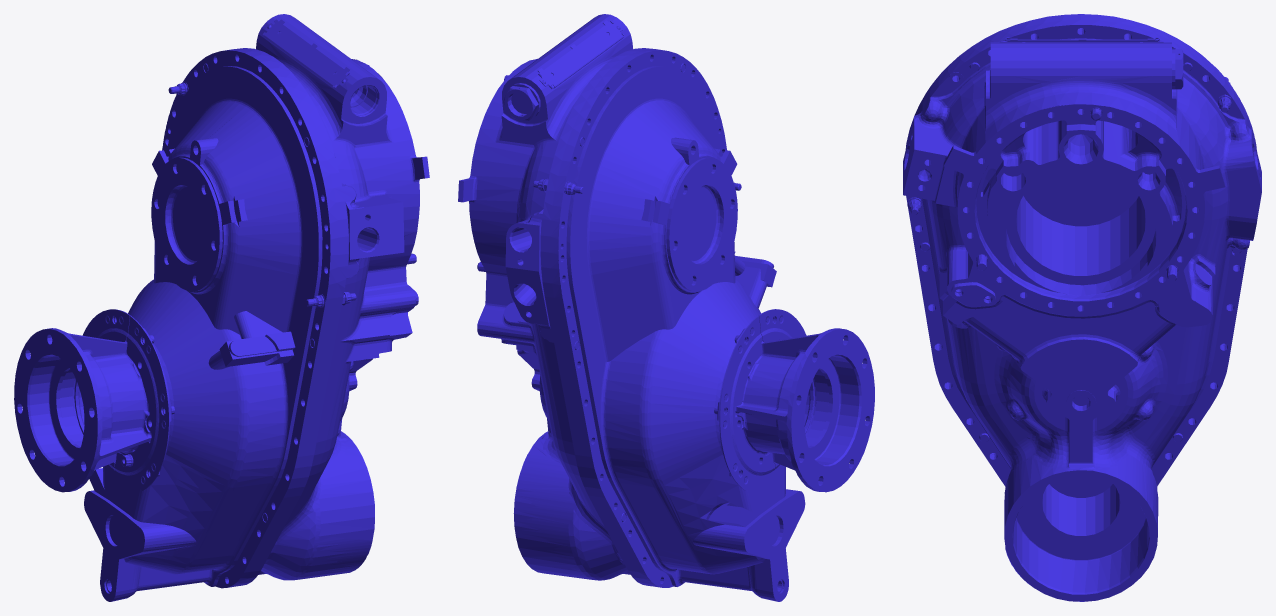
The picture shows the model from 3 angles, left to right: view 1: azimuth 30°, elevation 25°; view 2: azimuth 150°, elevation 25°; view 3: azimuth 270°, elevation 25°; orthographic projection. The views are drawn at different scales.
Visible parts, largest first — view 1: M05减速器; view 2: M05减速器; view 3: M05减速器.
Part boxes in pixels (x1=…): M05减速器: x1=14, y1=14, x2=429, y2=601; M05减速器: x1=458, y1=14, x2=874, y2=601; M05减速器: x1=903, y1=14, x2=1261, y2=601.
Bounding box in the file's own units: 264 × 406 × 238.
